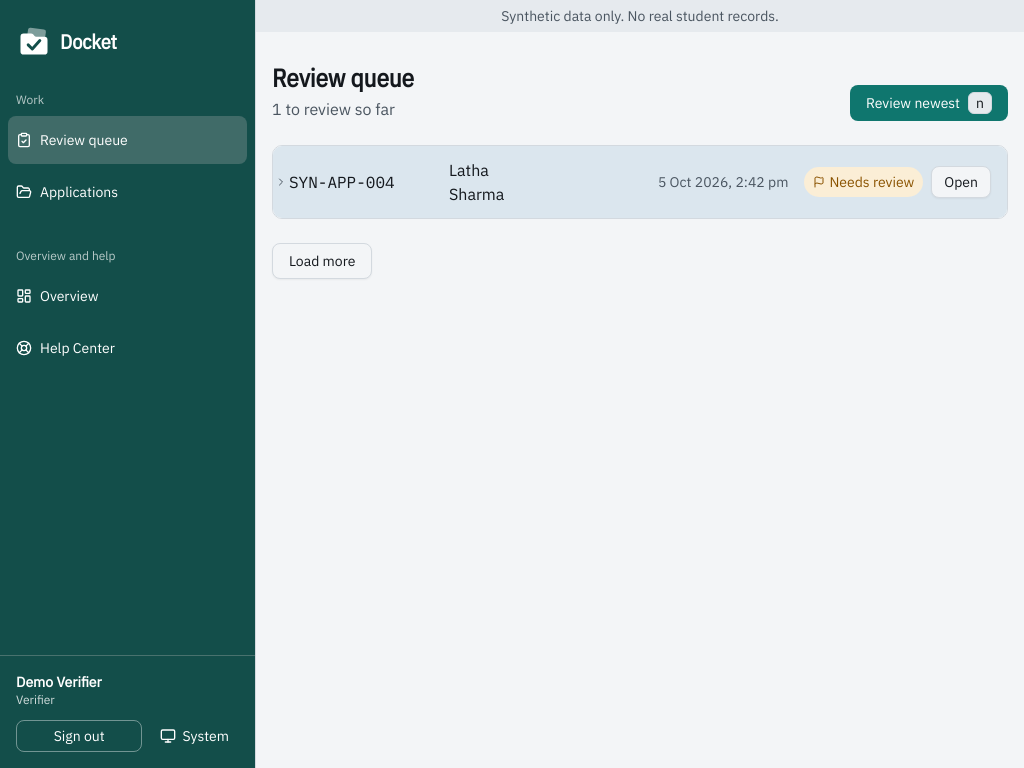
Test: the review queue › loads the next page with the cursor the server gave
Click the button "Load more" at (322, 261), box [272,243,372,279]
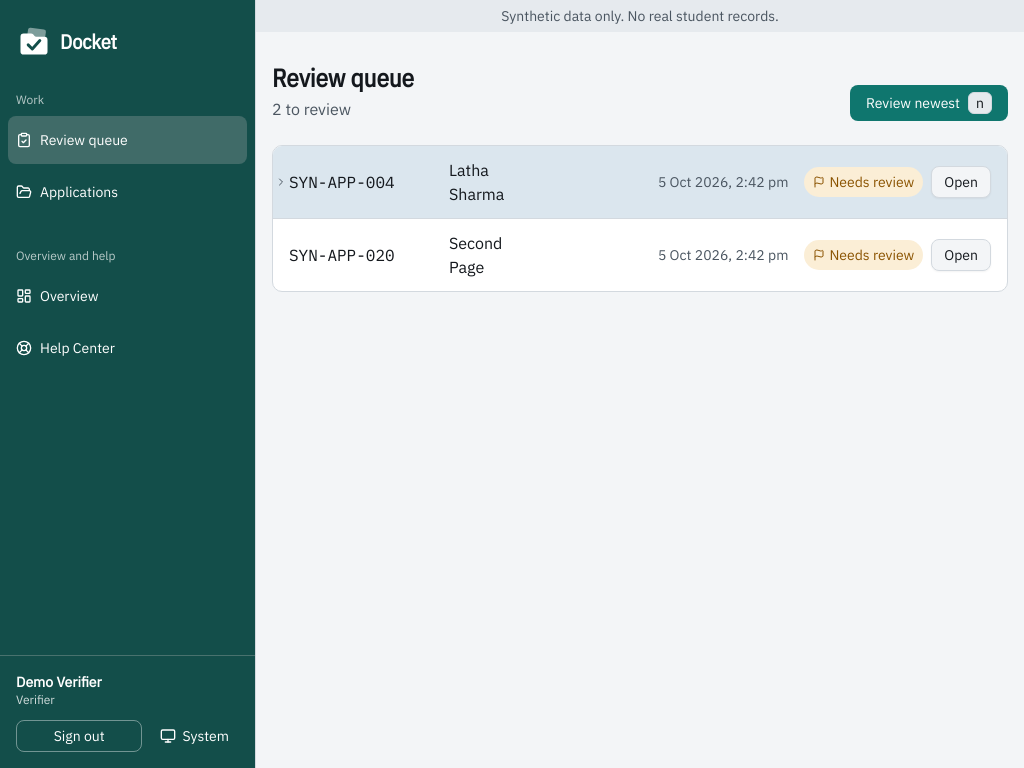
expect the text "Second Page" is shown: met, box [449,233,502,277]
expect the button "Load more" is gone: met
